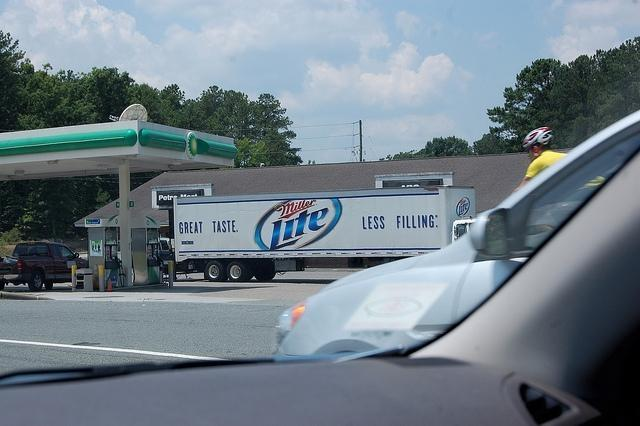car: (270, 110, 640, 426), (0, 254, 22, 292), (159, 238, 170, 254)
truck: (172, 186, 476, 283), (0, 243, 89, 290)
